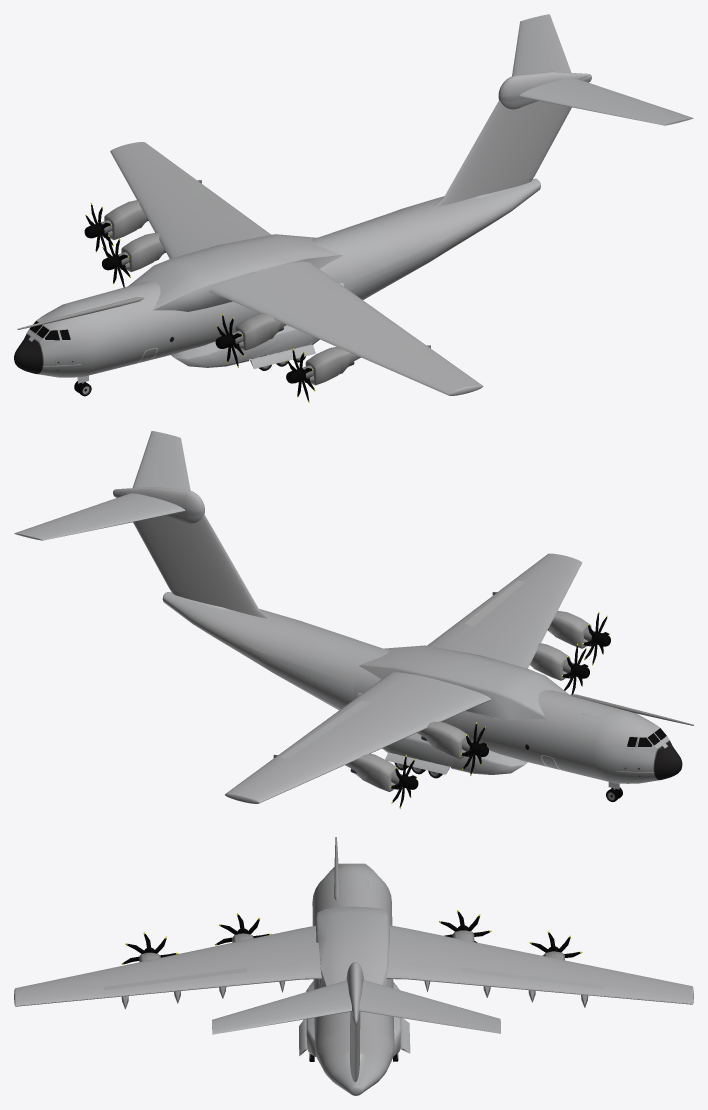
The model's file is njac130a400p16.glb.
3 views of the same model, one above another, from view 1: azimuth 30°, elevation 25°; view 2: azimuth 150°, elevation 25°; view 3: azimuth 270°, elevation 25° (orthographic). The views are drawn at different scales.
Parts seen in each view (by area): view 1: Cylinder.005; view 2: Cylinder.005; view 3: Cylinder.005.
Part boxes in pixels (bbox=[...]): Cylinder.005: bbox=[14, 14, 693, 402]; Cylinder.005: bbox=[14, 431, 693, 808]; Cylinder.005: bbox=[14, 837, 693, 1095].
Size of the model in its own units: 46 by 15.17 by 43.43.
49 materials, 10 textured.
